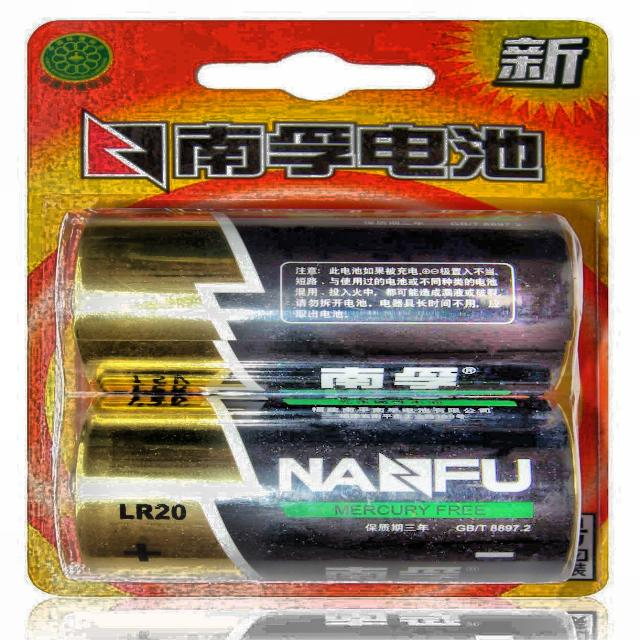Non-Valuable Waste - Batteries: (62, 210, 581, 396), (65, 398, 579, 582)
